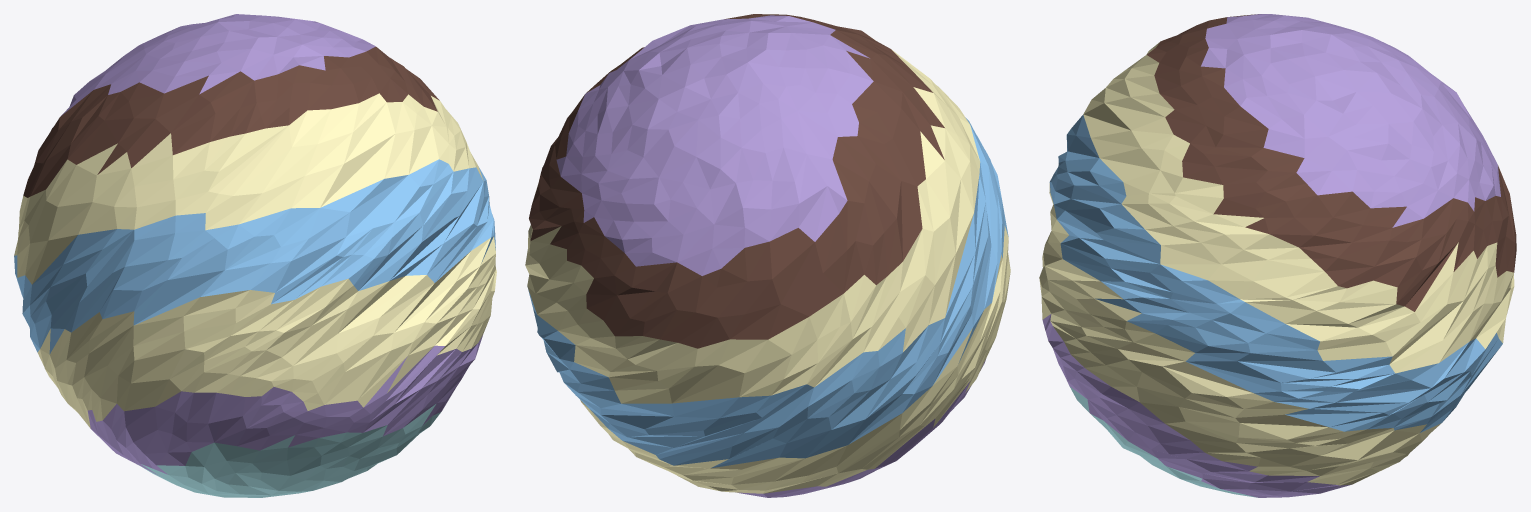
File: Planet_23.glb
3 renders of one model, left to right at view 1: azimuth 30°, elevation 25°; view 2: azimuth 150°, elevation 25°; view 3: azimuth 270°, elevation 25°, orthographic.
Parts seen in each view (by area): view 1: Planet_23; view 2: Planet_23; view 3: Planet_23.
Boxes of the visible parts, left/top/right/bottom form: Planet_23: left=14, top=14, right=496, bottom=497; Planet_23: left=525, top=14, right=1010, bottom=497; Planet_23: left=1039, top=14, right=1516, bottom=497.
Bounding box in the file's own units: 19.9 × 20.07 × 19.74.
Materials: 1 (1 with a texture image).
